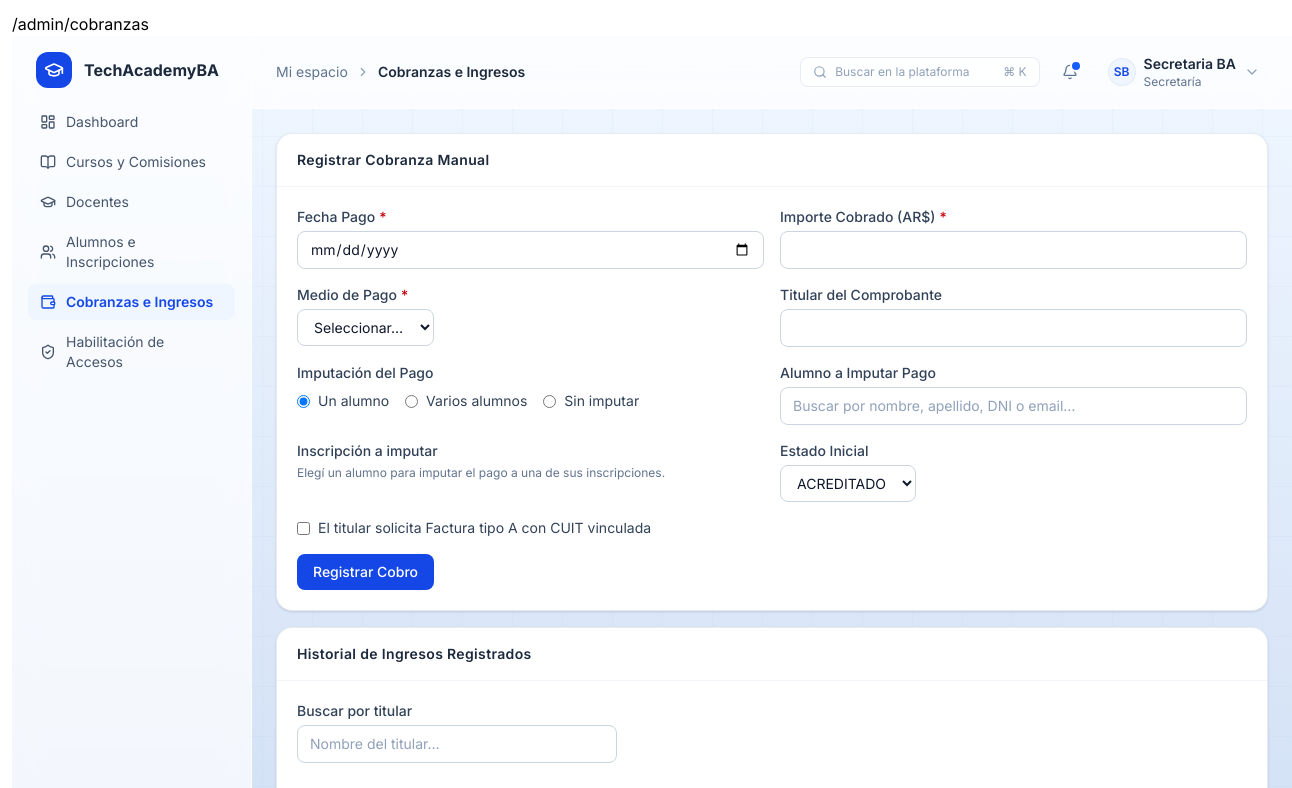
Test: formulario de registro › avisa cuando ningún alumno coincide con la búsqueda
Expected: the heading "Historial de Ingresos Registrados" is shown, [297,644,532,664]
Type "zzzz" into the dropdown labelled "Alumno a Imputar Pago" at (1014, 406), box [780,387,1247,425]
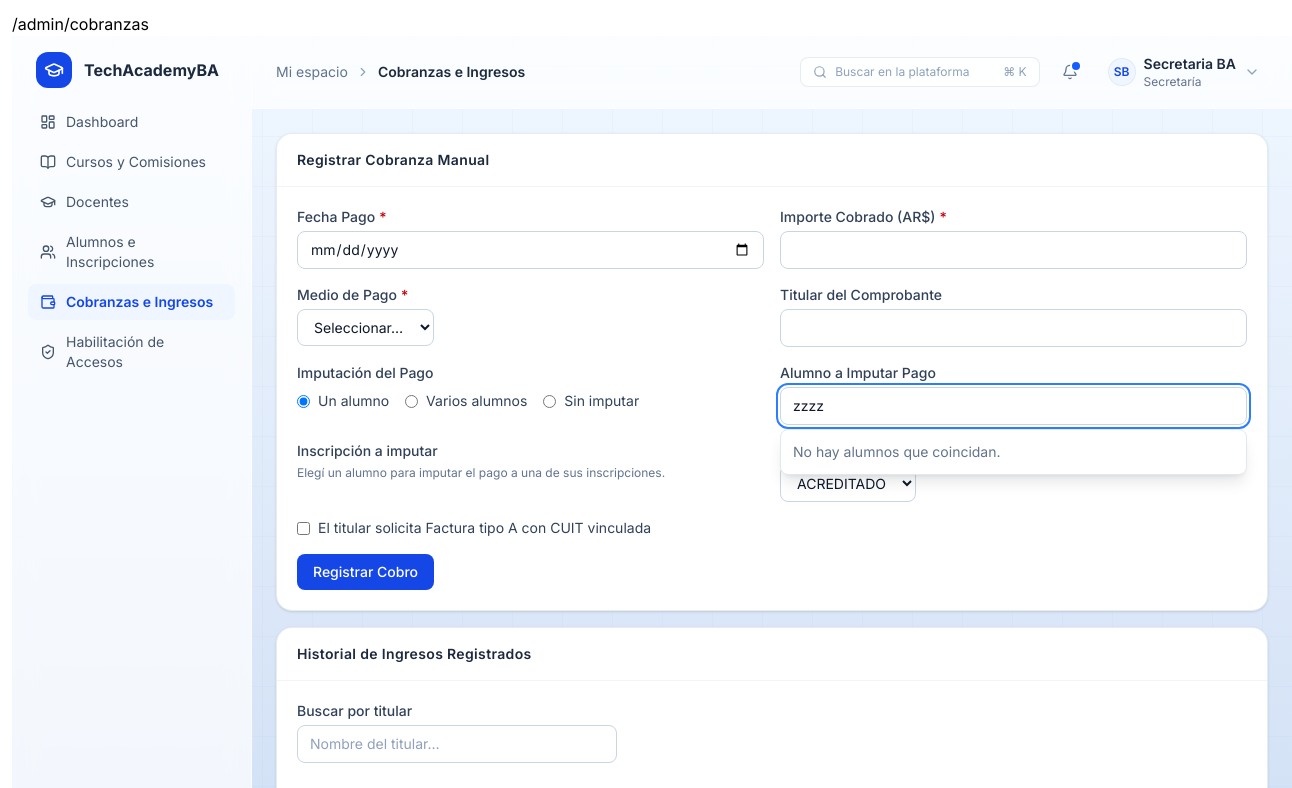
Expected: the list item "No hay alumnos que coincidan." is shown, [793,443,1000,460]
